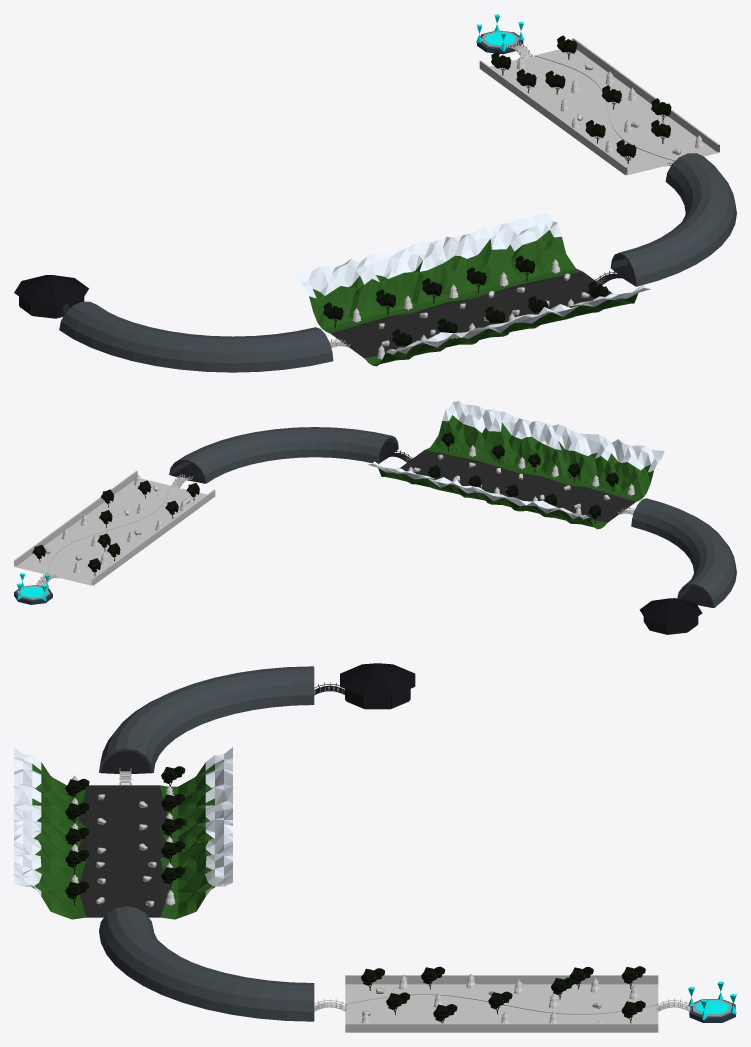
Rendered from map.obj.
3 views of the same model, one above another, from view 1: azimuth 30°, elevation 25°; view 2: azimuth 150°, elevation 25°; view 3: azimuth 270°, elevation 25° (orthographic). The views are drawn at different scales.
Visible parts, largest first — view 1: LowPolyRoad_Symmetric, ForestPath, Tunnel_Liner.001, Tunnel_Liner, Boss_Arena, Spawn_Unified; view 2: LowPolyRoad_Symmetric, ForestPath, Tunnel_Liner, Tunnel_Liner.001, Boss_Arena, Spawn_Unified, Road, Road.001; view 3: LowPolyRoad_Symmetric, ForestPath, Tunnel_Liner, Tunnel_Liner.001, Boss_Arena, Spawn_Unified, Road.001.
Part boxes in pixels (box(x1,y1,x2,y2)): LowPolyRoad_Symmetric: box(296, 213, 650, 366); ForestPath: box(479, 38, 719, 175); Tunnel_Liner.001: box(59, 301, 333, 372); Tunnel_Liner: box(610, 153, 736, 286); Boss_Arena: box(14, 275, 88, 318); Spawn_Unified: box(476, 14, 524, 54); LowPolyRoad_Symmetric: box(368, 401, 664, 529); ForestPath: box(14, 470, 215, 585); Tunnel_Liner: box(169, 427, 398, 483); Tunnel_Liner.001: box(631, 498, 736, 607); Boss_Arena: box(639, 598, 702, 634); Spawn_Unified: box(14, 573, 52, 604); Road: box(171, 446, 397, 483); Road.001: box(680, 586, 712, 607); LowPolyRoad_Symmetric: box(14, 747, 233, 919); ForestPath: box(345, 975, 658, 1032); Tunnel_Liner: box(99, 906, 314, 1021); Tunnel_Liner.001: box(99, 666, 314, 773); Boss_Arena: box(340, 663, 415, 709); Spawn_Unified: box(688, 981, 736, 1022); Road.001: box(101, 750, 151, 773).
Bounding box in the file's own units: 270 × 15.54 × 231.
